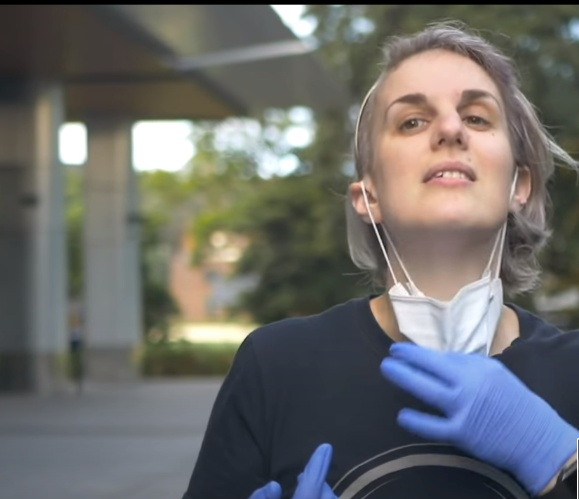mouth: (421, 158, 479, 189)
nose: (431, 122, 467, 149)
